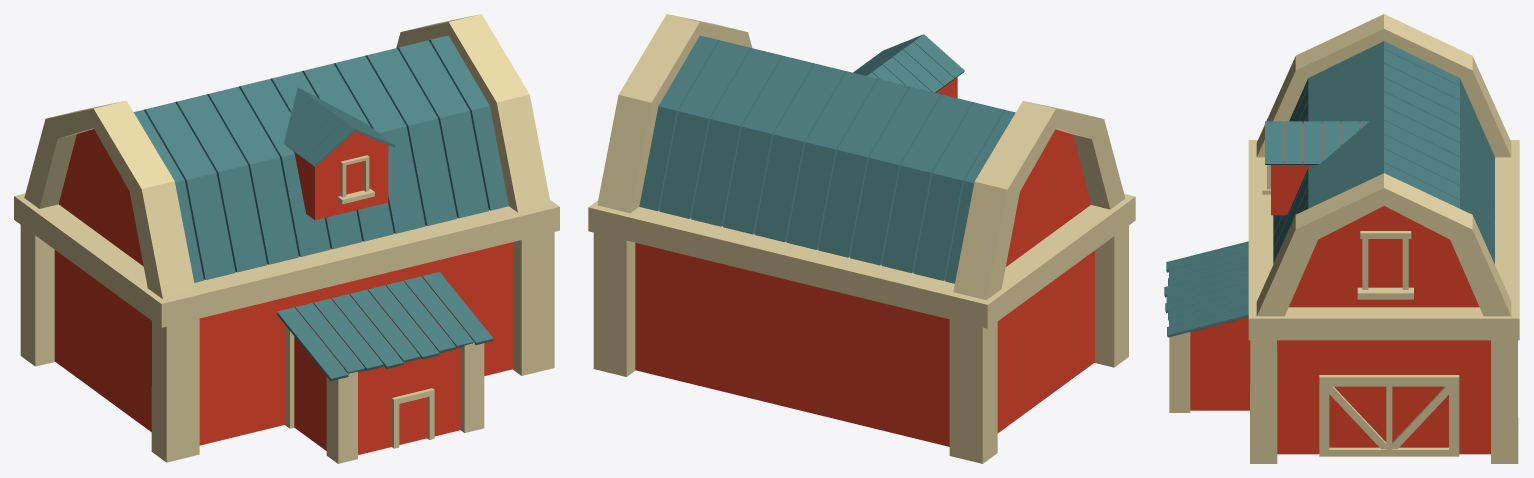
The model's file is hangar.fbx.
3 views of the same model, side by side, from view 1: azimuth 30°, elevation 25°; view 2: azimuth 150°, elevation 25°; view 3: azimuth 270°, elevation 25° (orthographic). The views are drawn at different scales.
Visible parts, largest first — view 1: Cube, Cube.008, Cube.003, Cube.001, Cube.002, Cube.005, Cube.004, Cube.006, Cube.012, Cube.013, Cube.007, Cube.015; view 2: Cube, Cube.008, Cube.003, Cube.001, Cube.002, Cube.013; view 3: Cube.008, Cube, Cube.002, Cube.001, Cube.003, Cube.005, Cube.004, Cube.009, Cube.013, Cube.014, Cube.006, Cube.012 (+2 smaller).
Part boxes in pixels (box(x1,y1,x2,y2)): Cube: box(133, 35, 508, 282); Cube.008: box(54, 129, 512, 445); Cube.003: box(20, 100, 199, 462); Cube.001: box(14, 193, 559, 327); Cube.002: box(396, 14, 554, 375); Cube.005: box(277, 272, 493, 380); Cube.004: box(294, 277, 470, 454); Cube.006: box(285, 326, 484, 463); Cube.012: box(293, 131, 388, 220); Cube.013: box(284, 87, 395, 166); Cube.007: box(391, 388, 434, 448); Cube.015: box(337, 155, 374, 204); Cube: box(639, 35, 1015, 283); Cube.008: box(635, 129, 1094, 446); Cube.003: box(949, 101, 1128, 463); Cube.001: box(588, 194, 1135, 328); Cube.002: box(593, 14, 752, 376); Cube.013: box(853, 34, 964, 92); Cube.008: box(1277, 206, 1490, 454); Cube: box(1273, 41, 1494, 264); Cube.002: box(1250, 173, 1518, 463); Cube.001: box(1248, 140, 1519, 340); Cube.003: box(1256, 14, 1511, 157); Cube.005: box(1164, 241, 1248, 337); Cube.004: box(1190, 317, 1250, 410); Cube.009: box(1319, 375, 1459, 456); Cube.013: box(1265, 121, 1369, 164); Cube.014: box(1357, 231, 1413, 299); Cube.006: box(1169, 332, 1190, 412); Cube.012: box(1271, 124, 1360, 215).
Bounding box in the file's own units: 549 × 396 × 462.
